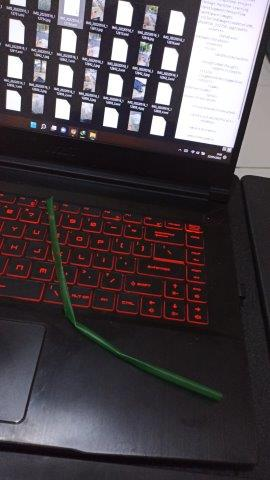sedotan: (47, 198, 221, 400)
